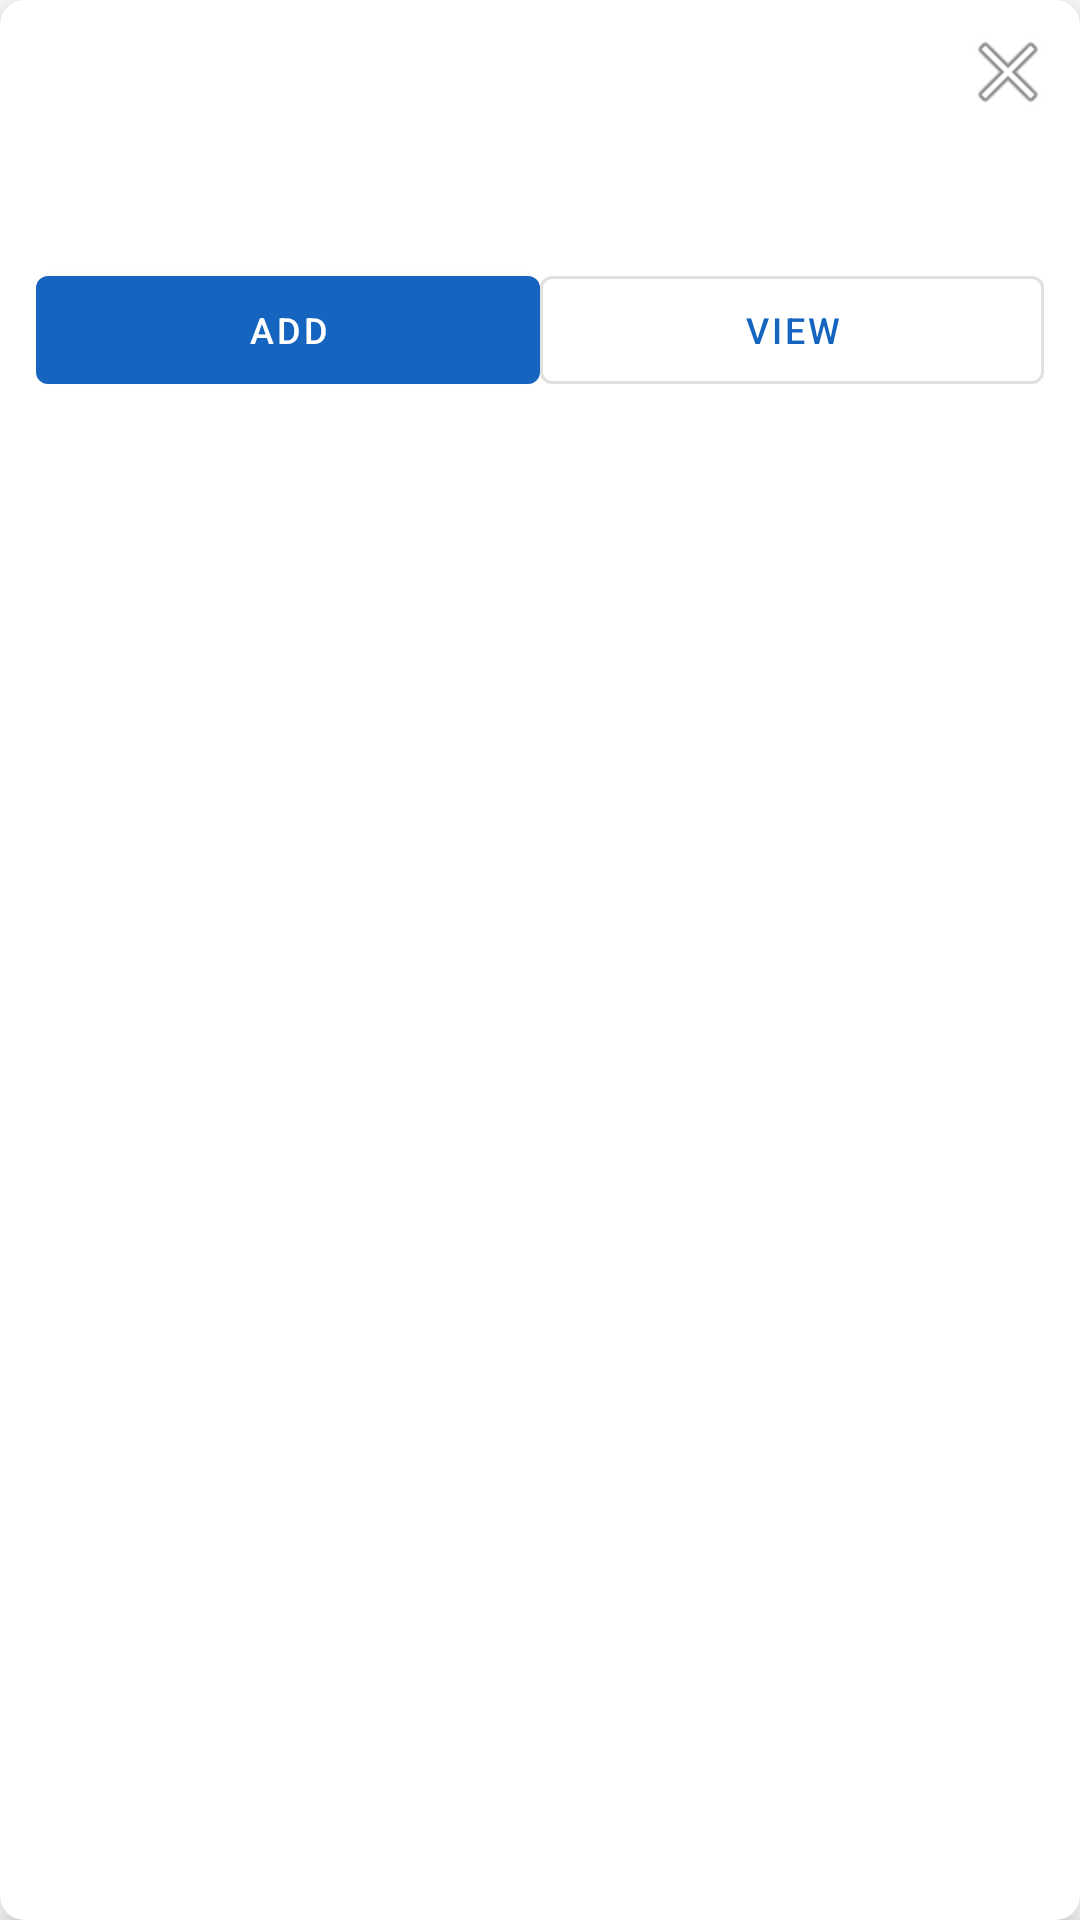

Screen size 1080 x 1920. Icon name, then its center in pixels as [x,y]:
Close: [1008,72]
